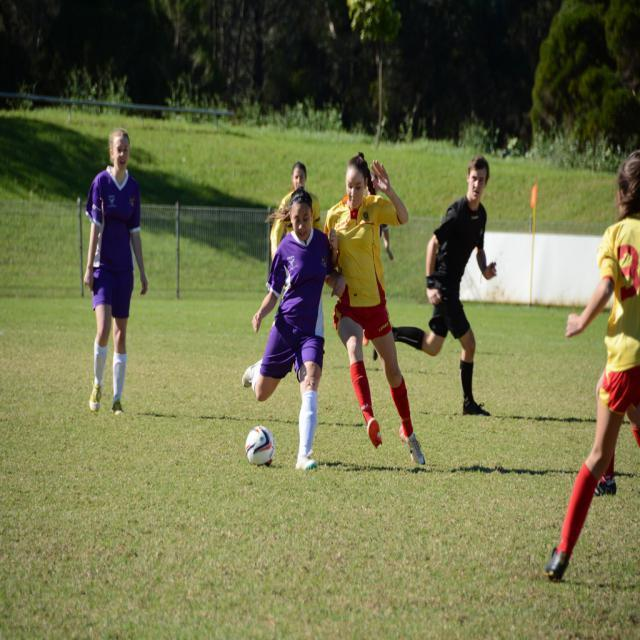football: (233, 420, 283, 483)
